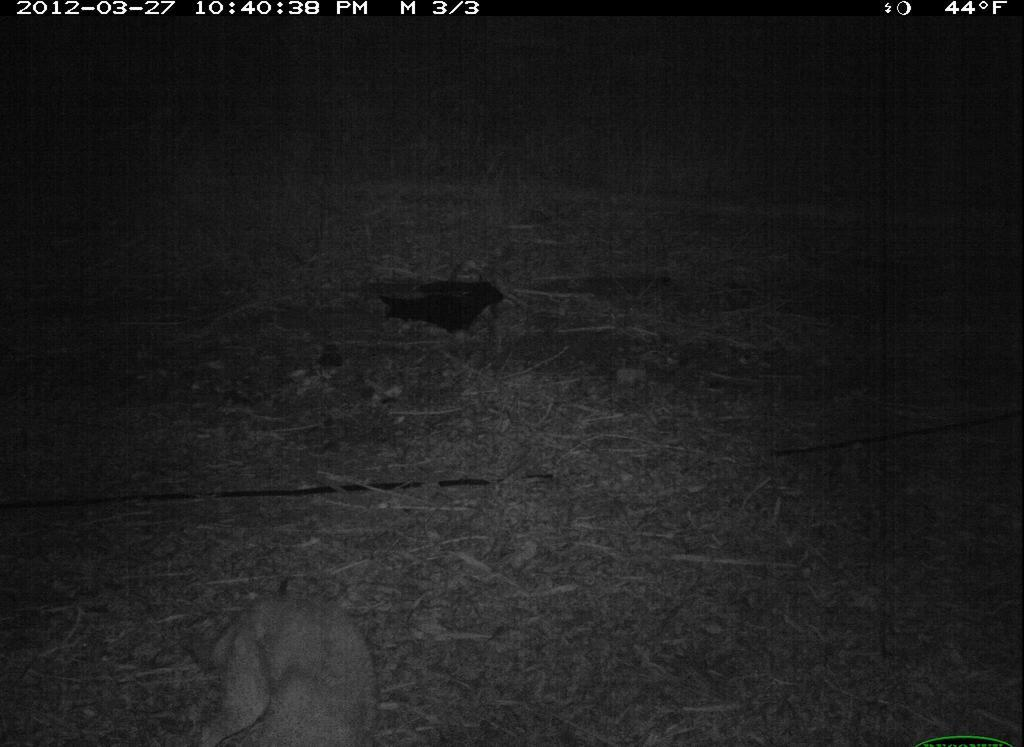coyote: (181, 593, 387, 742)
